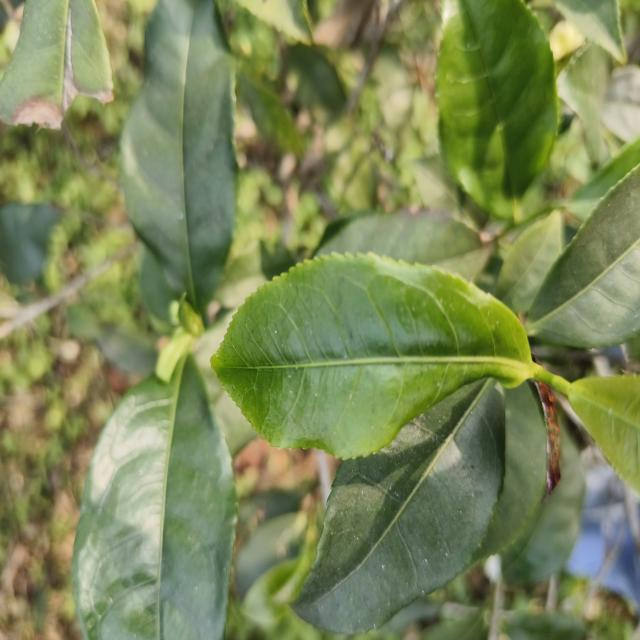Leaf: (211, 254, 534, 458), (293, 380, 505, 633), (73, 355, 237, 640), (122, 0, 237, 312), (436, 0, 558, 218), (526, 167, 640, 347), (0, 0, 113, 128), (472, 382, 547, 561), (502, 427, 586, 583), (316, 210, 490, 280), (568, 375, 640, 493), (494, 211, 563, 313), (235, 512, 308, 600), (558, 43, 610, 166), (242, 545, 313, 626), (237, 73, 303, 154), (0, 203, 58, 284), (552, 0, 626, 63), (287, 43, 346, 115), (237, 0, 311, 44), (97, 326, 157, 376)
